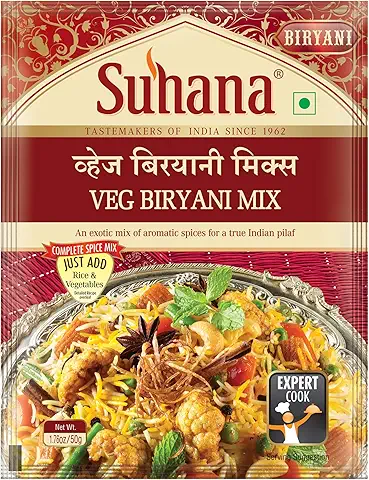Biryani: (5, 8, 367, 480)
